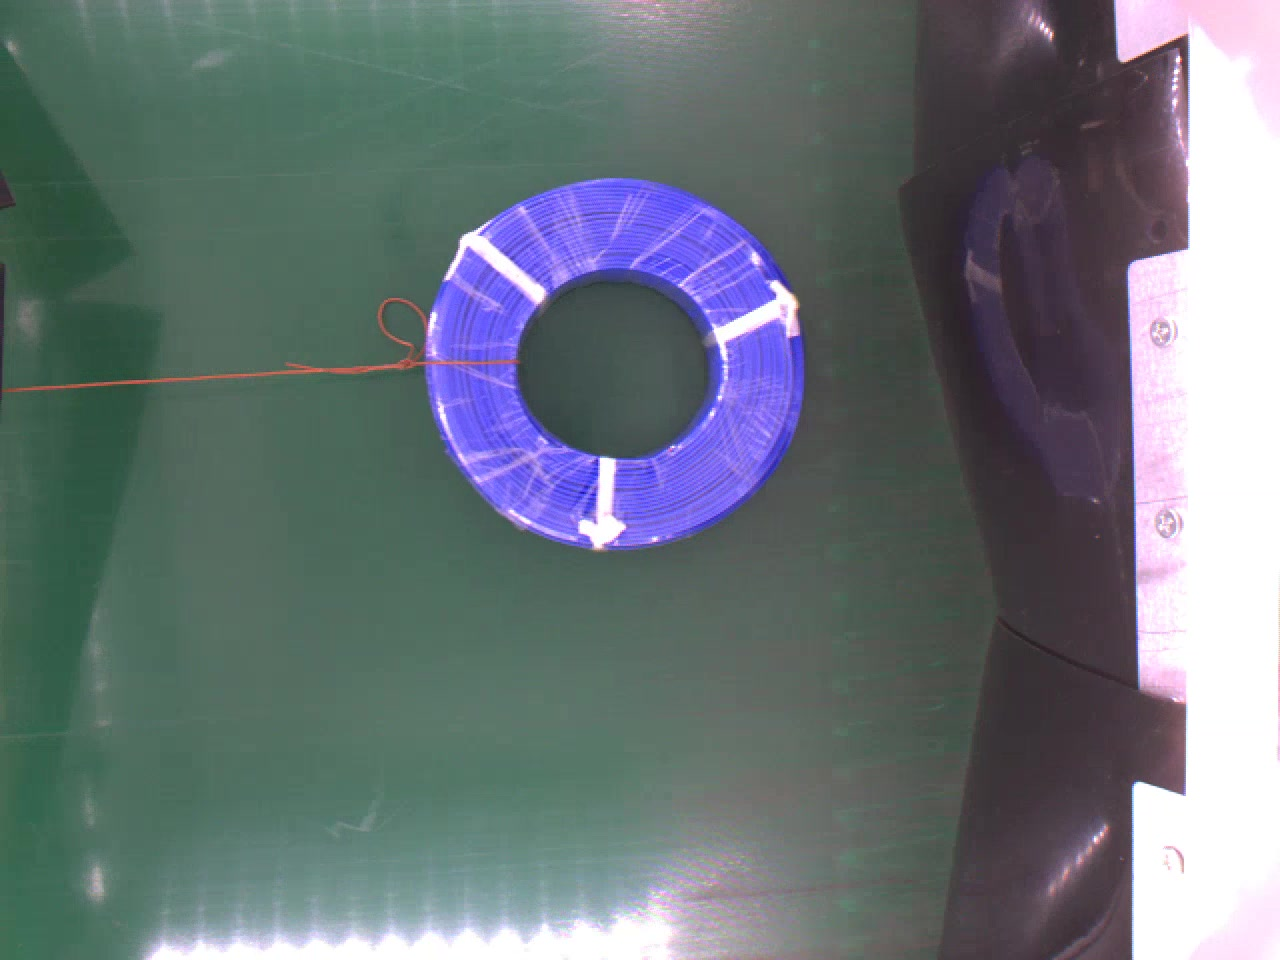blue: (421, 175, 812, 552)
